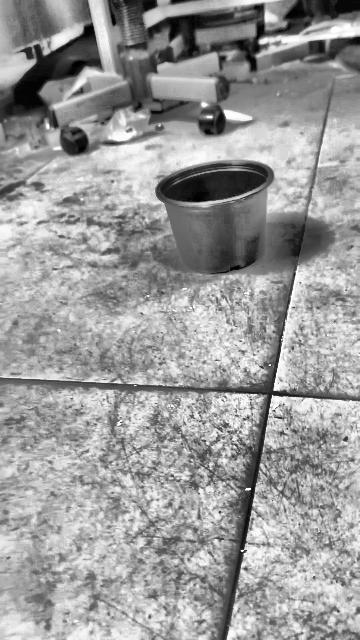pot: (156, 160, 273, 273)
